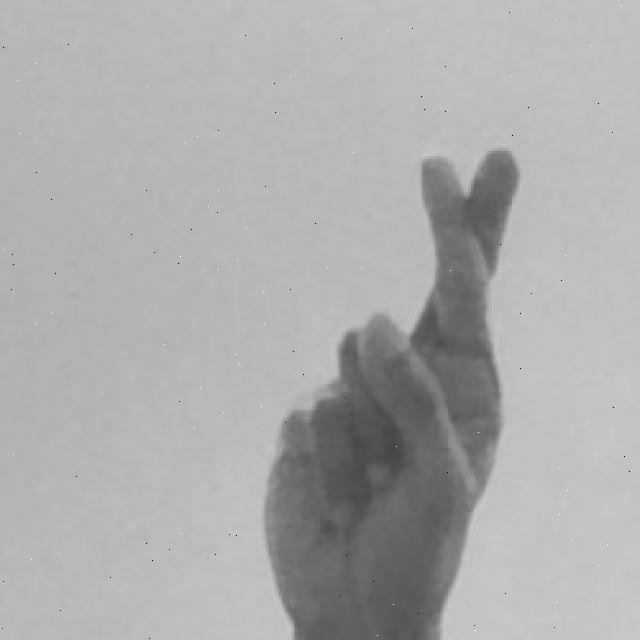R: (255, 143, 524, 640)
